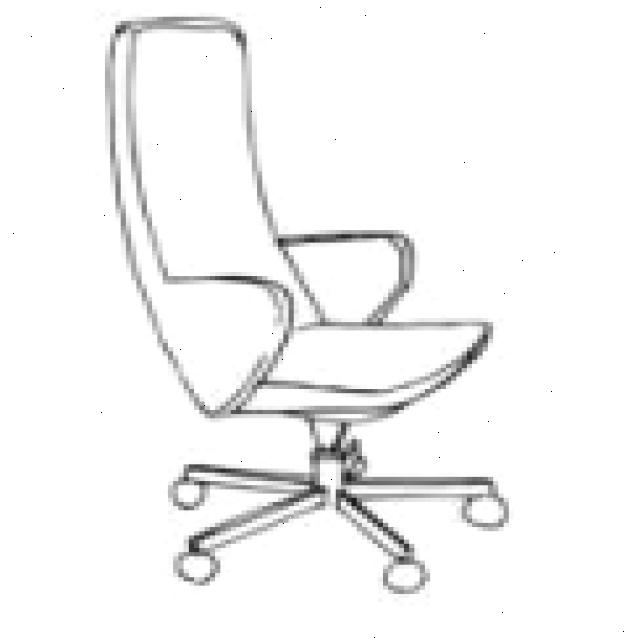5_Star_Base: (152, 442, 518, 605)
Armrest: (132, 277, 291, 417), (268, 232, 418, 326)
Backrest: (110, 16, 329, 335)
Seat: (237, 321, 491, 417)
